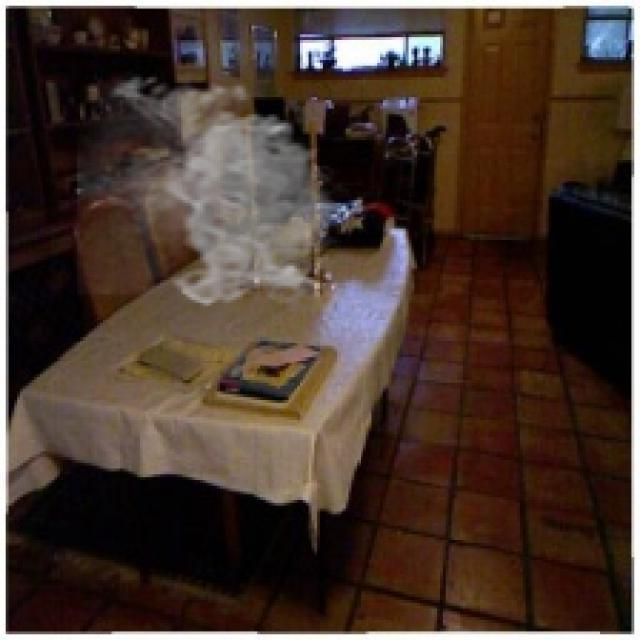Smoke: (77, 68, 349, 312)
